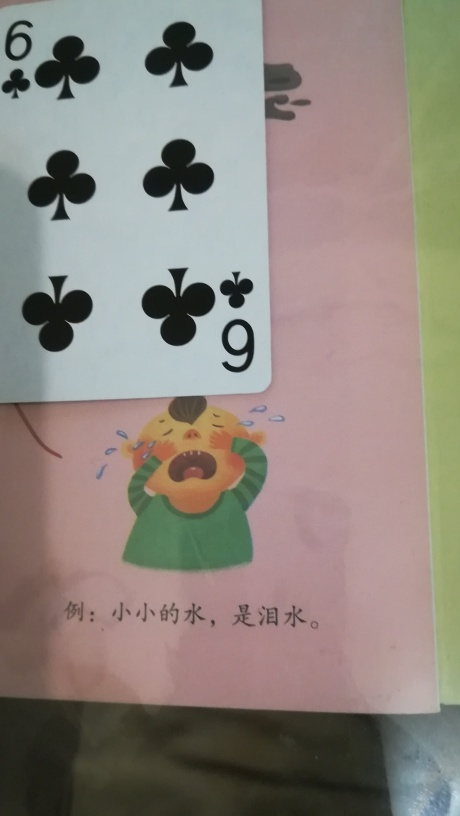mh 6: (1, 0, 276, 409)
